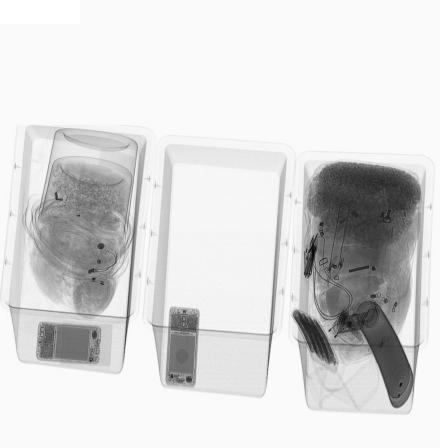Powerbank: (292, 309, 340, 370)
